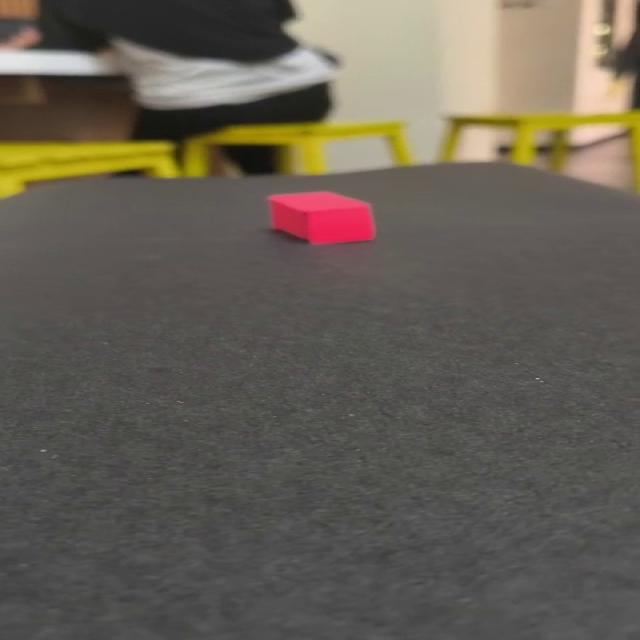red block: (267, 190, 376, 244)
